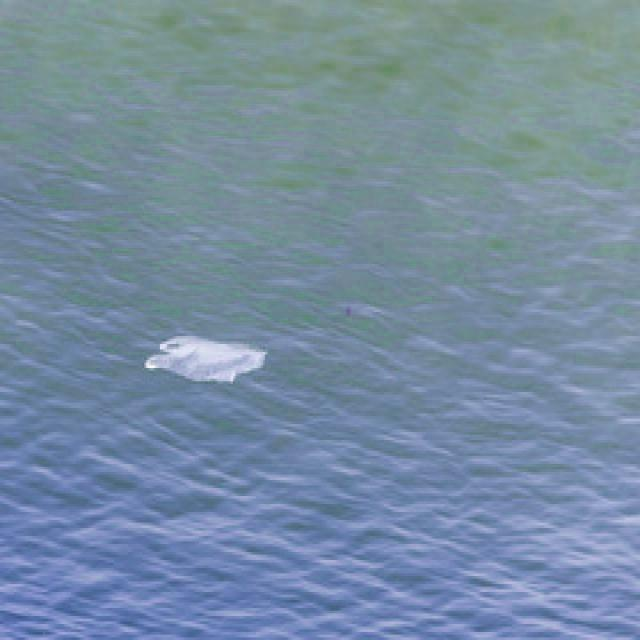Trash: (140, 326, 273, 391)
